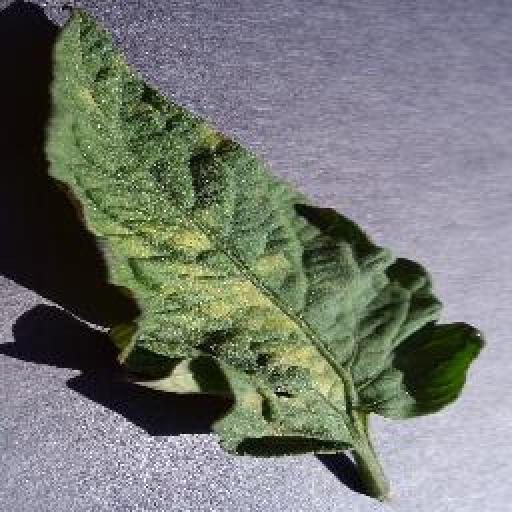Leaf Mold: (43, 0, 488, 459)
